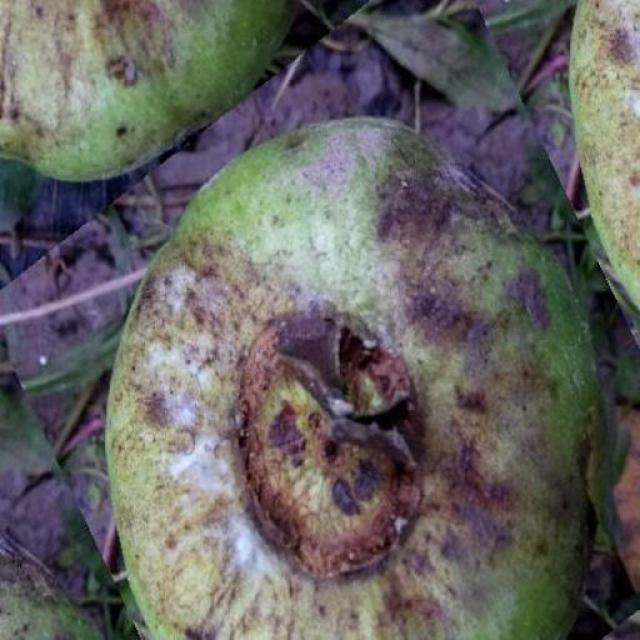Phytopthora: (108, 118, 595, 640), (0, 0, 291, 179)
